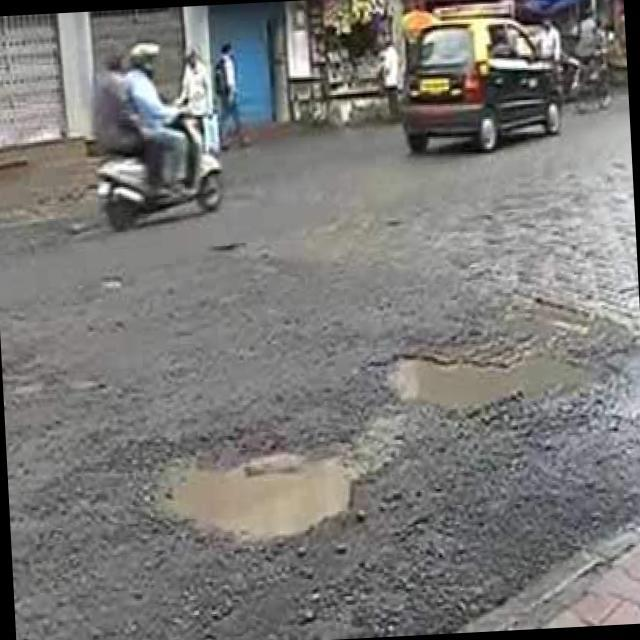Pothole: (145, 421, 371, 544), (372, 332, 620, 422)
